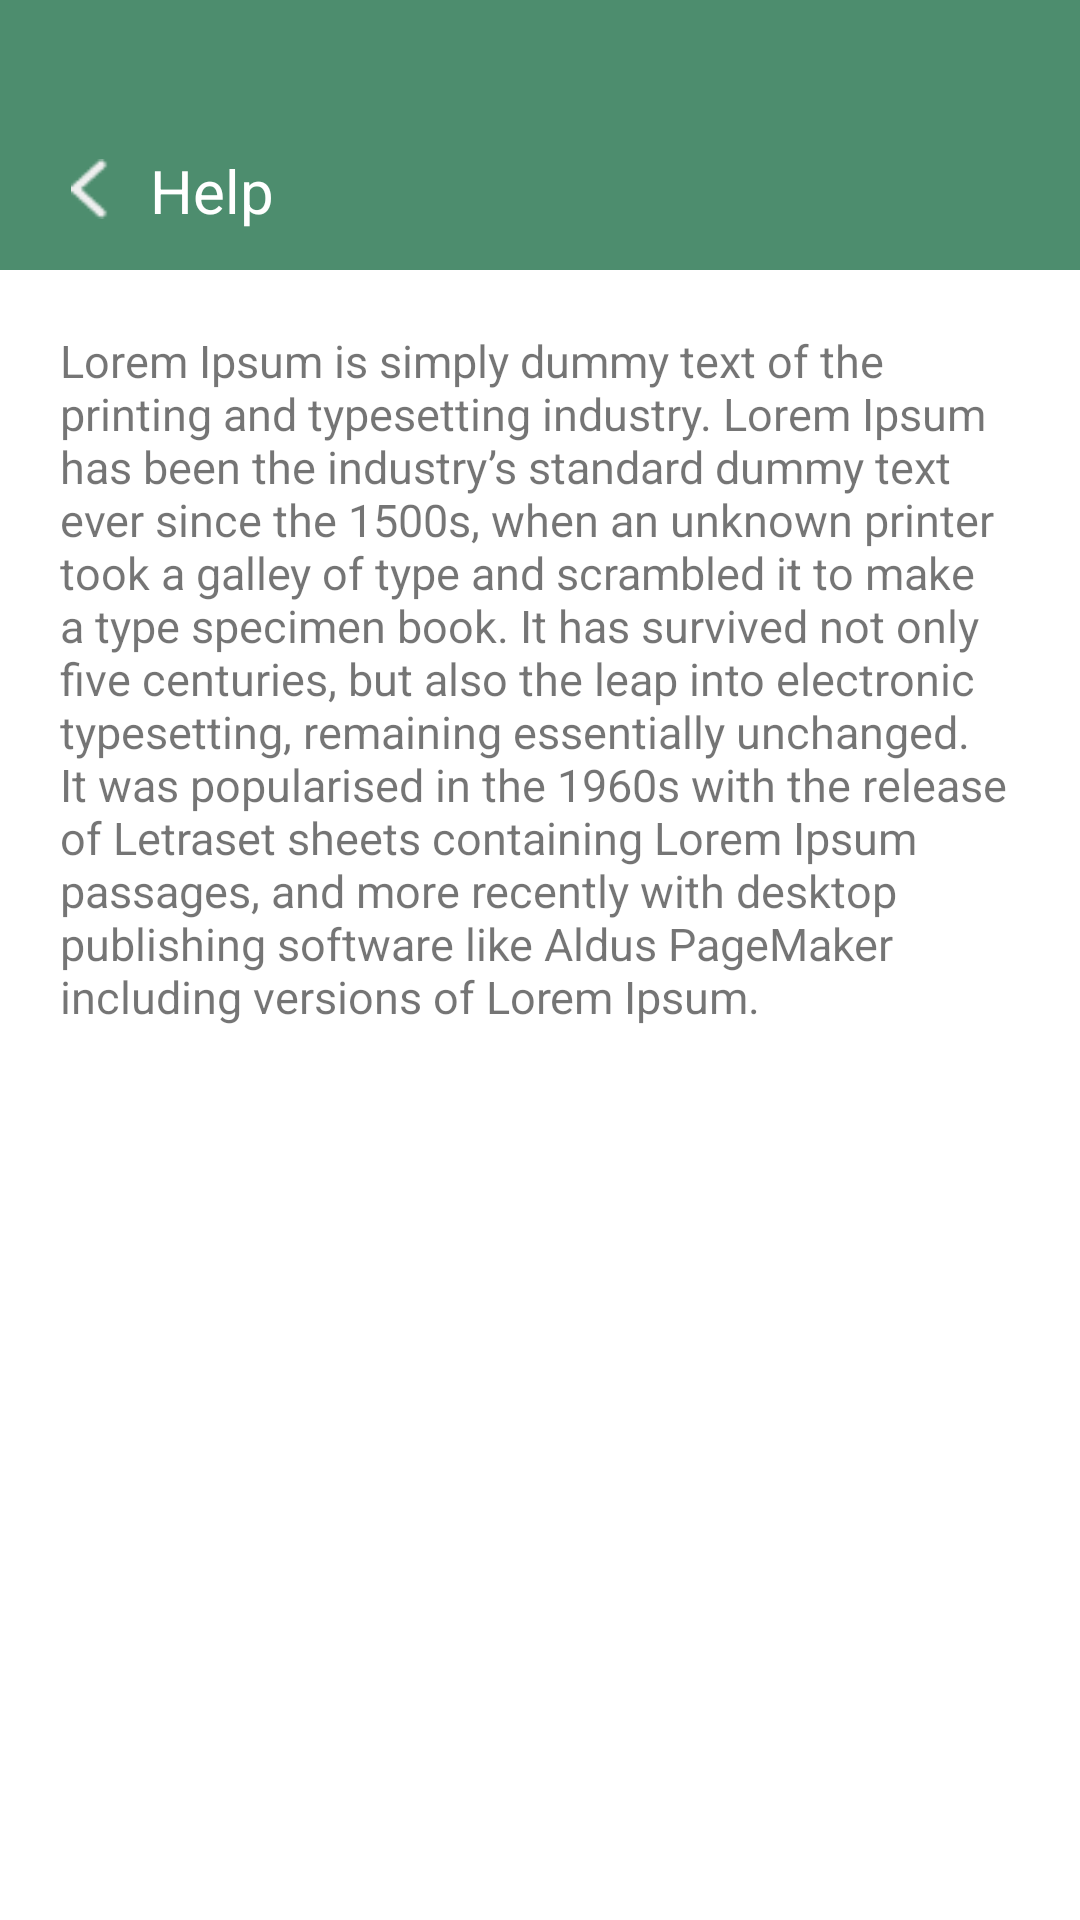

Where icons sit on this 1080 x 1920 app screen, as {"x1": x1, "y1": y1, "x2": x2, "y2": y2}:
back: {"x1": 71, "y1": 159, "x2": 107, "y2": 219}
